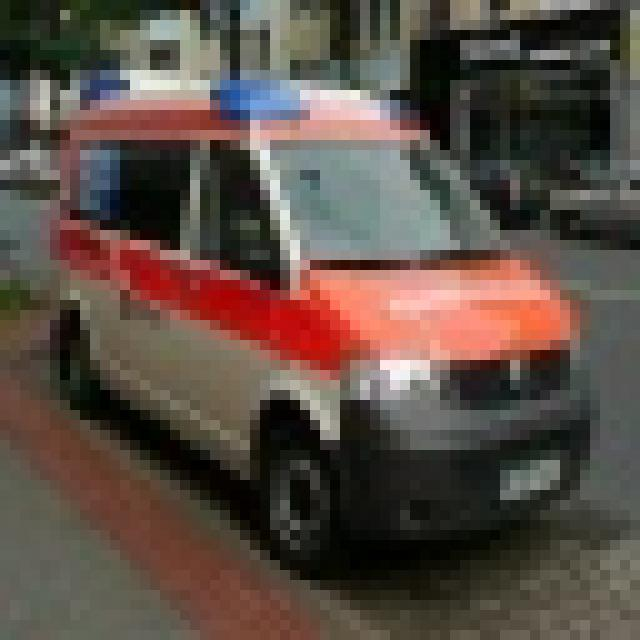Ambulance: (40, 70, 590, 570)
